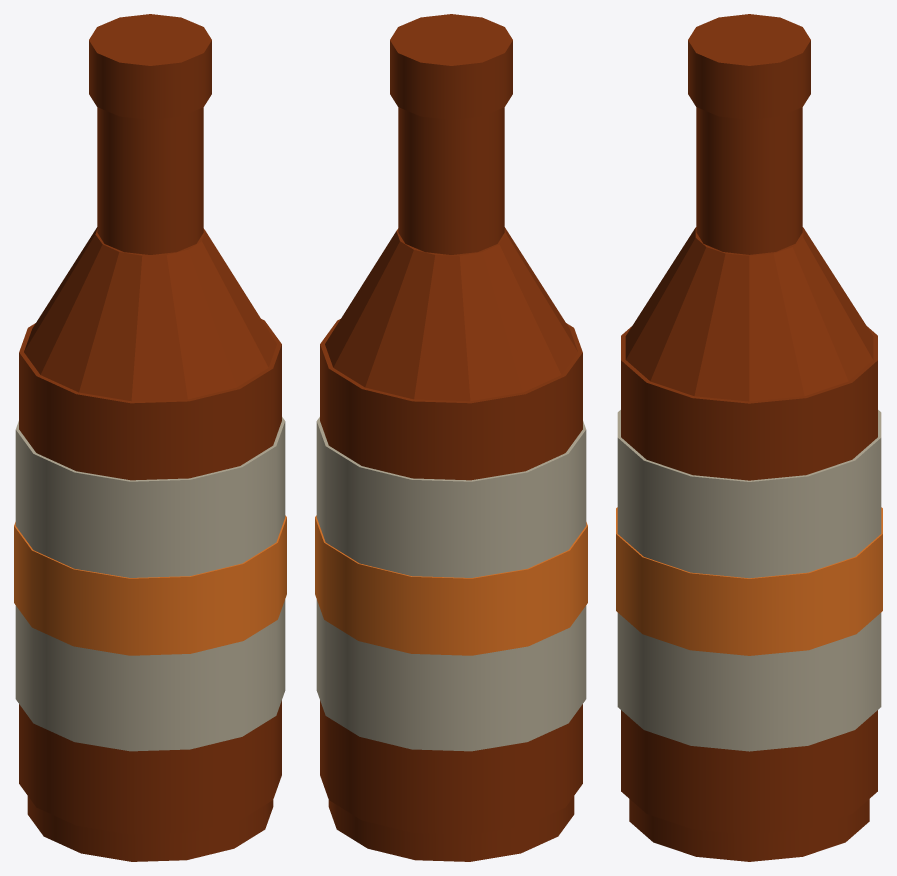
The model's file is drink_bottle_bulwark.gltf.
3 views of the same model, side by side, from view 1: azimuth 30°, elevation 25°; view 2: azimuth 150°, elevation 25°; view 3: azimuth 270°, elevation 25° (orthographic).
Parts seen in each view (by area): view 1: drink_bottle_bulwark; view 2: drink_bottle_bulwark; view 3: drink_bottle_bulwark.
Part boxes in pixels (x1,y1,x2,y2): drink_bottle_bulwark: (14,14,286,861); drink_bottle_bulwark: (315,14,587,861); drink_bottle_bulwark: (616,14,882,861).
Size of the model in its own units: 0.0644 by 0.2 by 0.0628.
